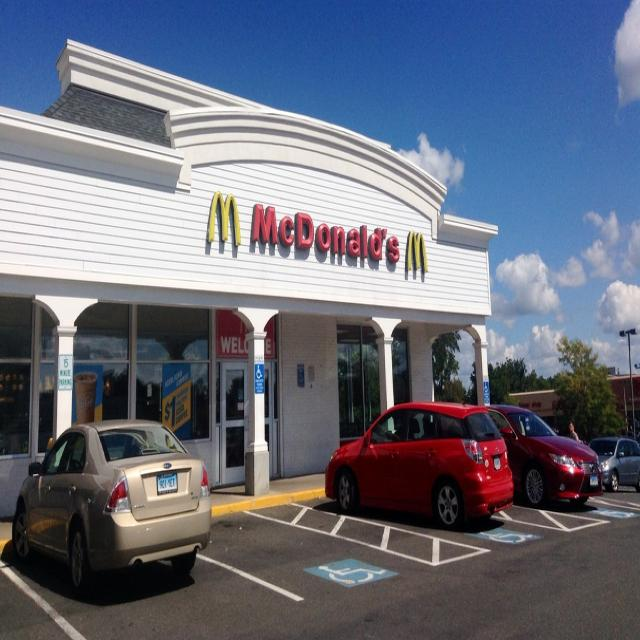car: (9, 422, 210, 598), (322, 398, 513, 527)
